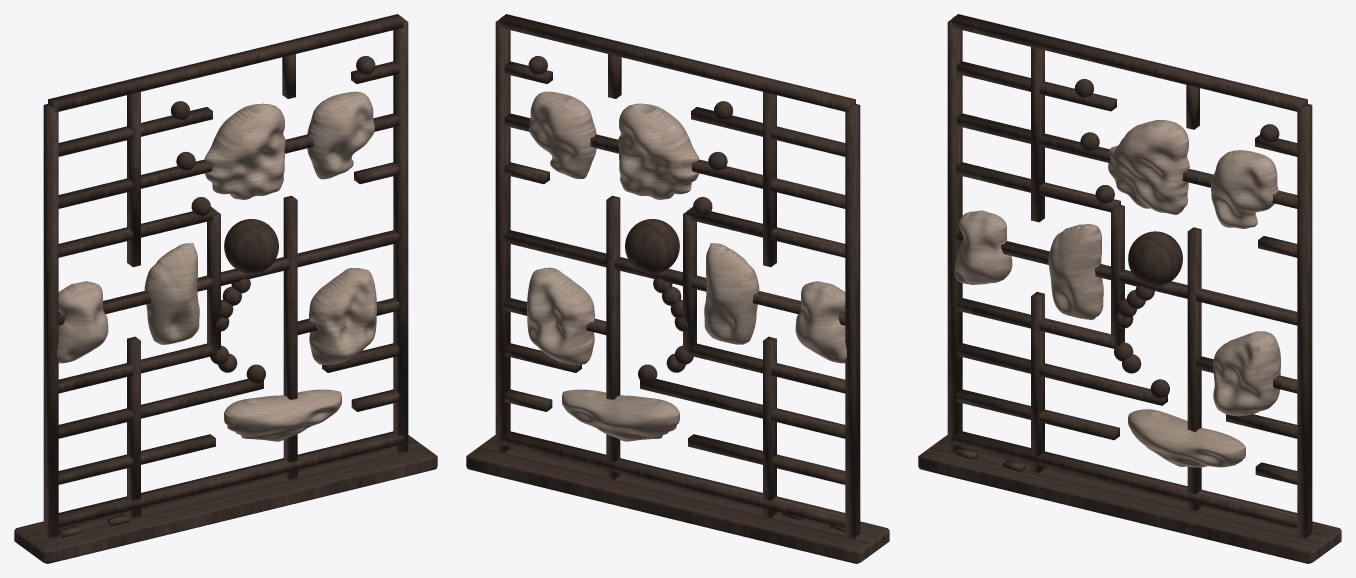
Rendered from escultura-esc-037.glb.
The picture shows the model from 3 angles, left to right: view 1: azimuth 30°, elevation 25°; view 2: azimuth 150°, elevation 25°; view 3: azimuth 330°, elevation 25°; orthographic projection.
Visible parts, largest first — view 1: world; view 2: world; view 3: world.
Part boxes in pixels (x1,y1,x2,y2): world: [14, 14, 437, 563]; world: [466, 14, 889, 563]; world: [918, 14, 1341, 563].
Bounding box in the file's own units: 0.4754 × 0.5127 × 0.067.
1 material, 1 textured.
